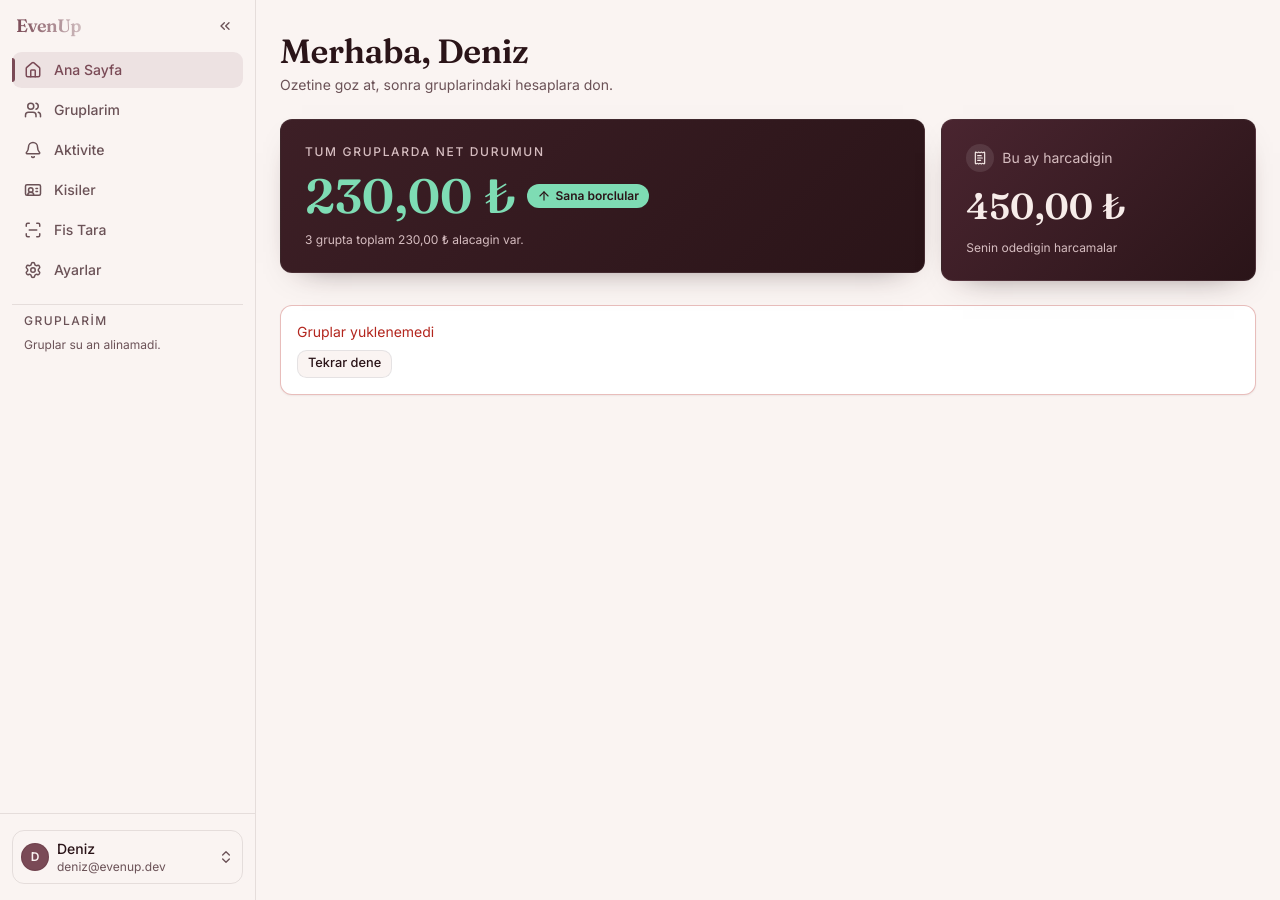
Test: Home — Gruplar › gruplar yuklenemezse hata gosterilir ve tekrar dene calisir
The width and height of the screenshot is (1280, 900).
Expected: the heading "Merhaba, Deniz" is shown, x1=280 y1=30 x2=528 y2=72
Expected: the message shows "Gruplar yuklenemedi", x1=297 y1=323 x2=434 y2=340
What coordinates should you click on to do the following:
click the button "Tekrar dene"
I would click on:
 (345, 364)
Its box is x1=297 y1=350 x2=392 y2=378.
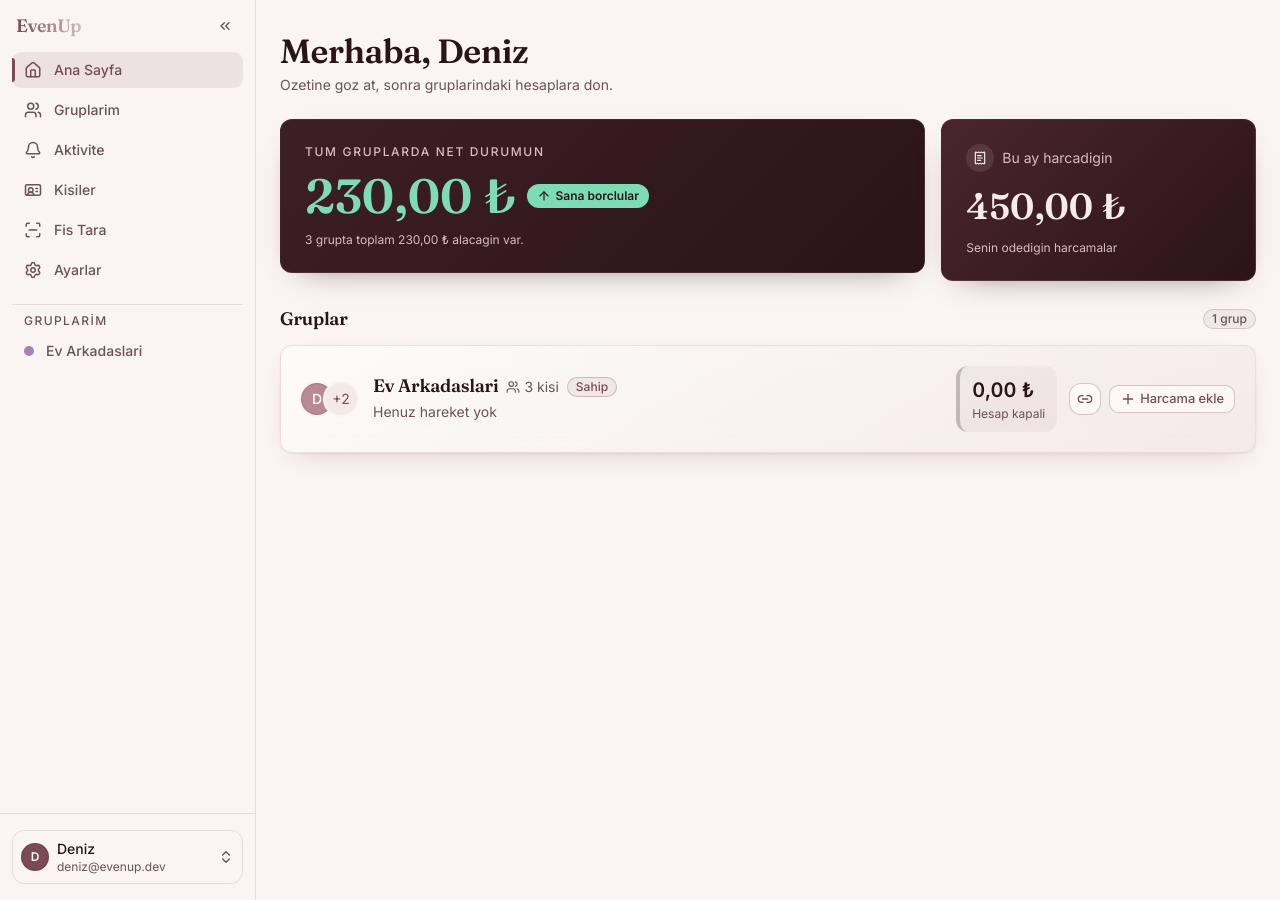
Result: the heading "Ev Arkadaslari" is shown at x1=373 y1=375 x2=498 y2=398
